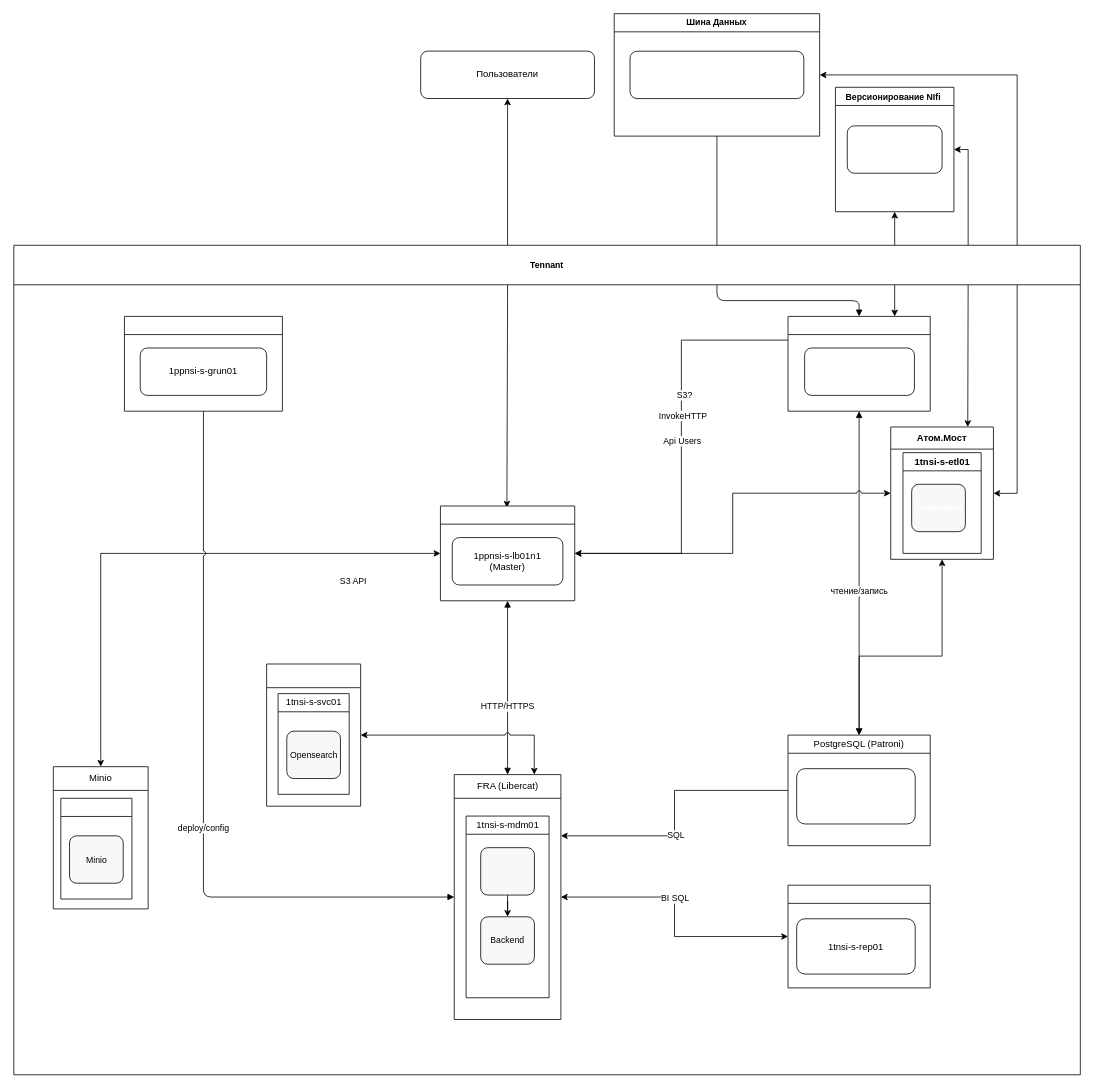
Some shapes in this 1094 by 1089 pixel diagram are drawn without their labels. Here are the shapes that lost their labels. From the top down, the box of each, then its label:
(629, 50, 804, 99): ЕСИК БП 2.0 (ИН)
(846, 125, 942, 173): Nifi Registry
(124, 316, 282, 411): CI/CD Runner
(804, 347, 914, 395): 1tnsi-s-pg02
(440, 505, 575, 601): HAProxy
(266, 663, 361, 806): Oensearch
(796, 768, 915, 824): 1tnsi-s-pg01
(60, 798, 132, 899): 1tnsi-s-fs01
(480, 847, 534, 895): Frontend
(787, 884, 930, 988): Tantor (Patroni)
